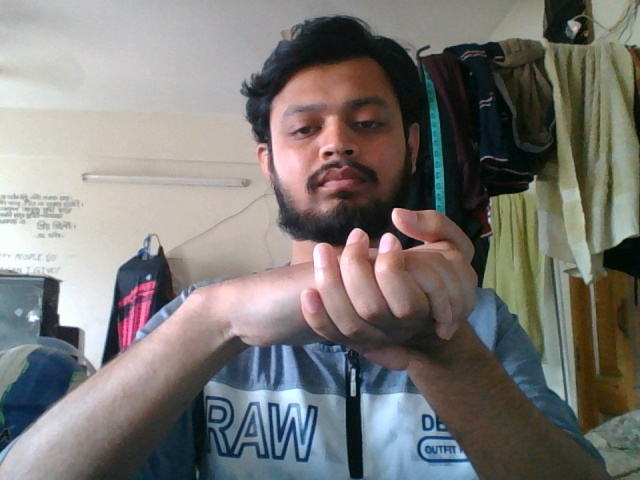bondhu: (138, 198, 540, 404)
